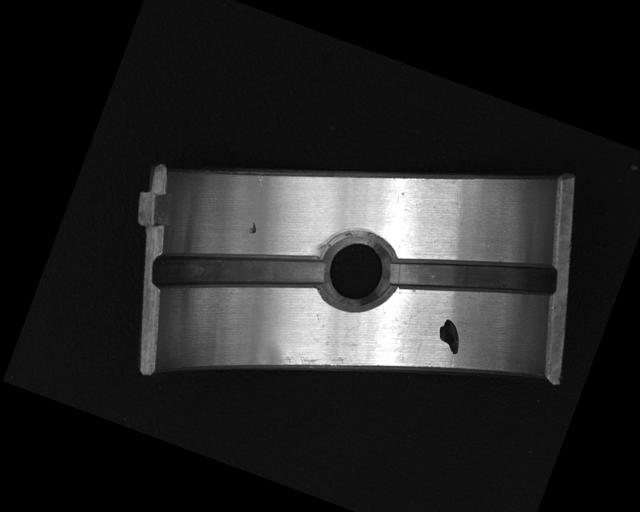blot: (432, 316, 468, 355)
bruise: (247, 221, 259, 235)
gap: (151, 206, 329, 337), (387, 213, 564, 336)
hole: (311, 221, 405, 318)
